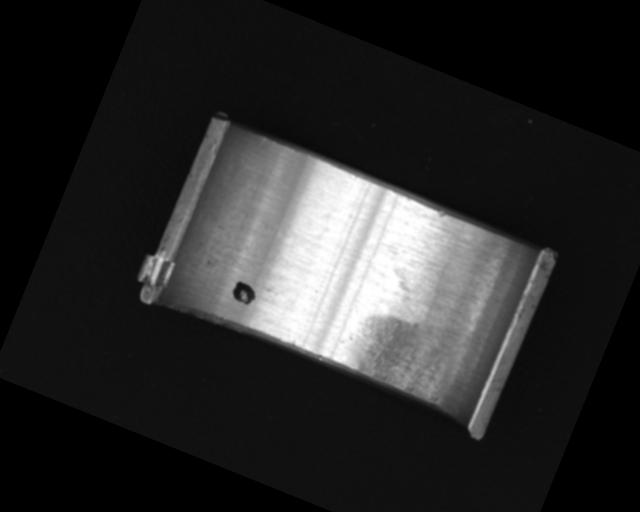blot: (228, 279, 259, 308)
bruise: (436, 208, 448, 220)
scratch: (335, 299, 469, 408)
